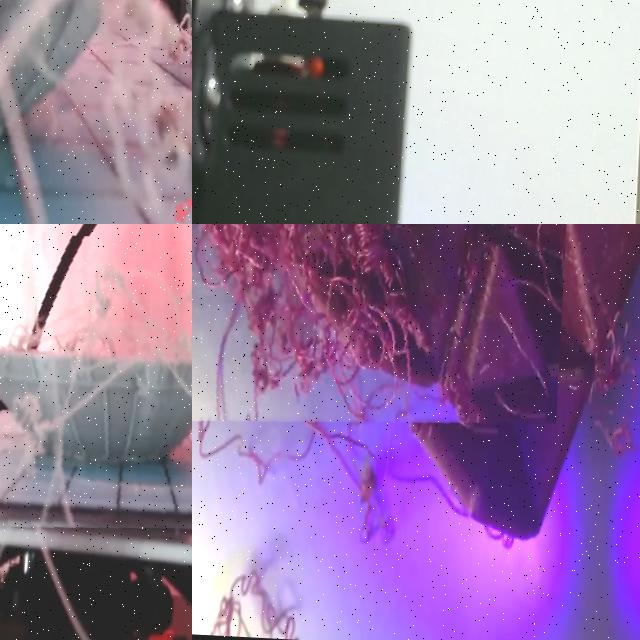spaghetti: (192, 224, 577, 442), (0, 226, 192, 548), (0, 0, 192, 224), (204, 555, 343, 640), (579, 281, 640, 469)
